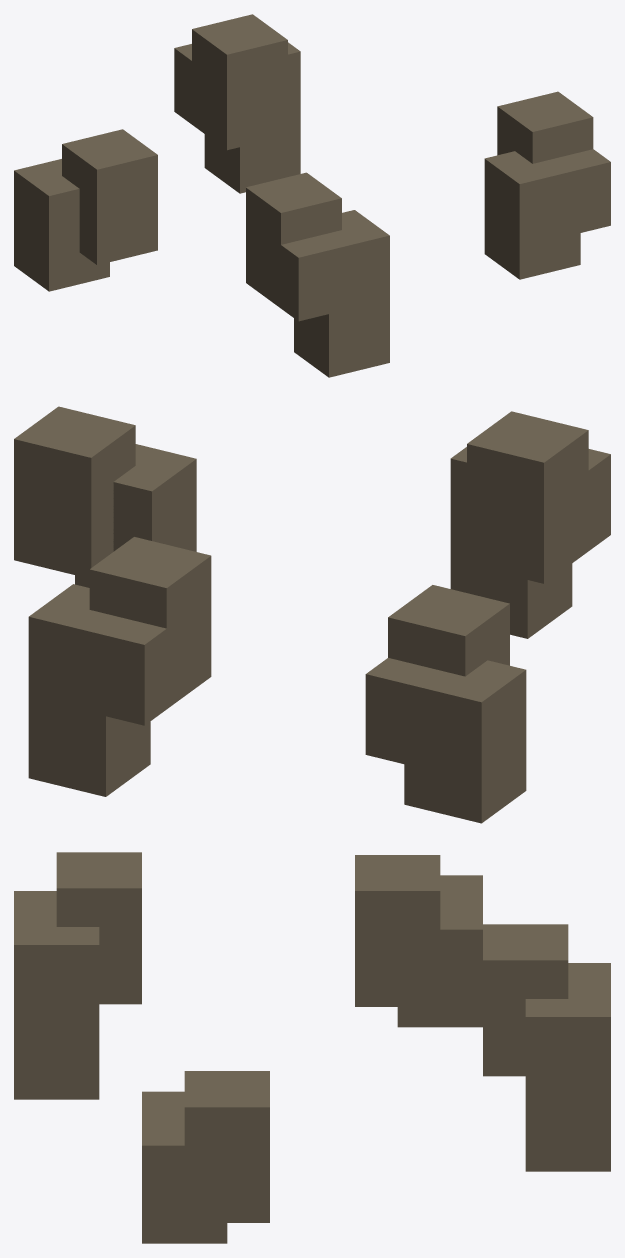
The model's file is flowers_3_winter.glb.
3 views of the same model, one above another, from view 1: azimuth 30°, elevation 25°; view 2: azimuth 150°, elevation 25°; view 3: azimuth 270°, elevation 25° (orthographic). The views are drawn at different scales.
Visible parts, largest first — view 1: VoxelVisual; view 2: VoxelVisual; view 3: VoxelVisual.
Boxes of the visible parts, <box> form: VoxelVisual: <box>14,14,610,377</box>; VoxelVisual: <box>14,406,610,823</box>; VoxelVisual: <box>14,852,610,1243</box>.
Size of what is drawn, in the model's own units: 0.9375 by 0.3125 by 0.875.
